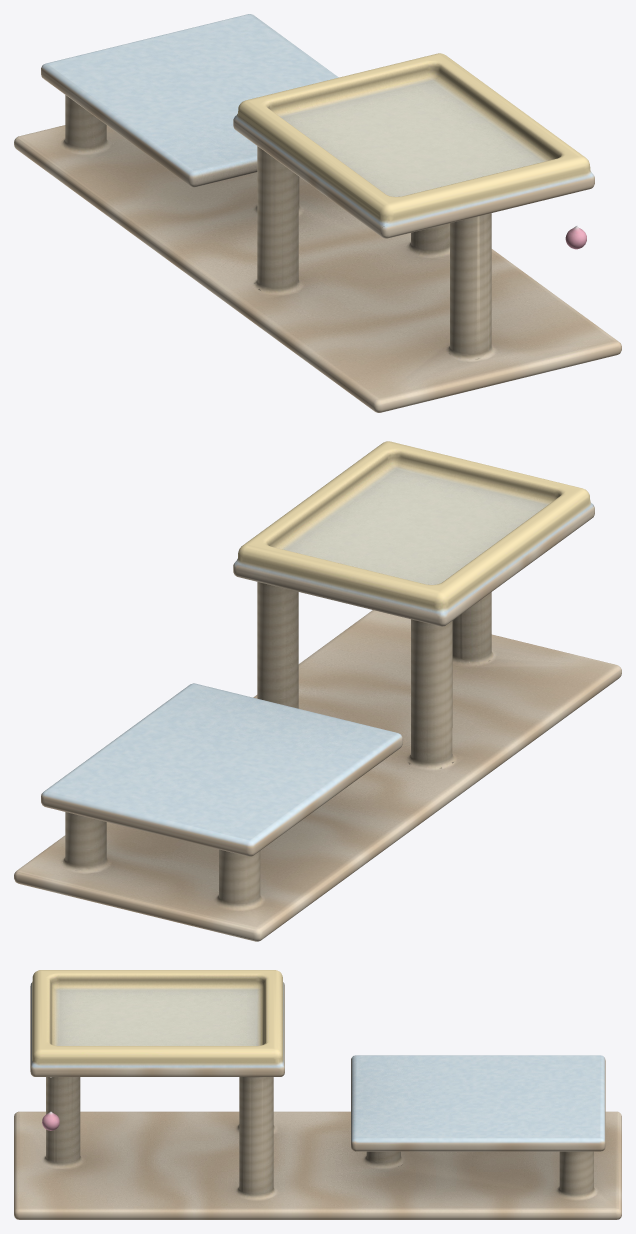
File: cat_tower_2.glb
3 views of the same model, one above another, from view 1: azimuth 30°, elevation 25°; view 2: azimuth 150°, elevation 25°; view 3: azimuth 270°, elevation 25° (orthographic). The views are drawn at different scales.
Parts seen in each view (by area): view 1: cat_tower_2.001; view 2: cat_tower_2.001; view 3: cat_tower_2.001.
Part boxes in pixels (left/top/right/bottom): cat_tower_2.001: left=14, top=14, right=621, bottom=412; cat_tower_2.001: left=14, top=441, right=621, bottom=941; cat_tower_2.001: left=14, top=970, right=621, bottom=1219.
Bounding box in the file's own units: 0.58 × 0.434 × 1.48.
1 material, 1 textured.
